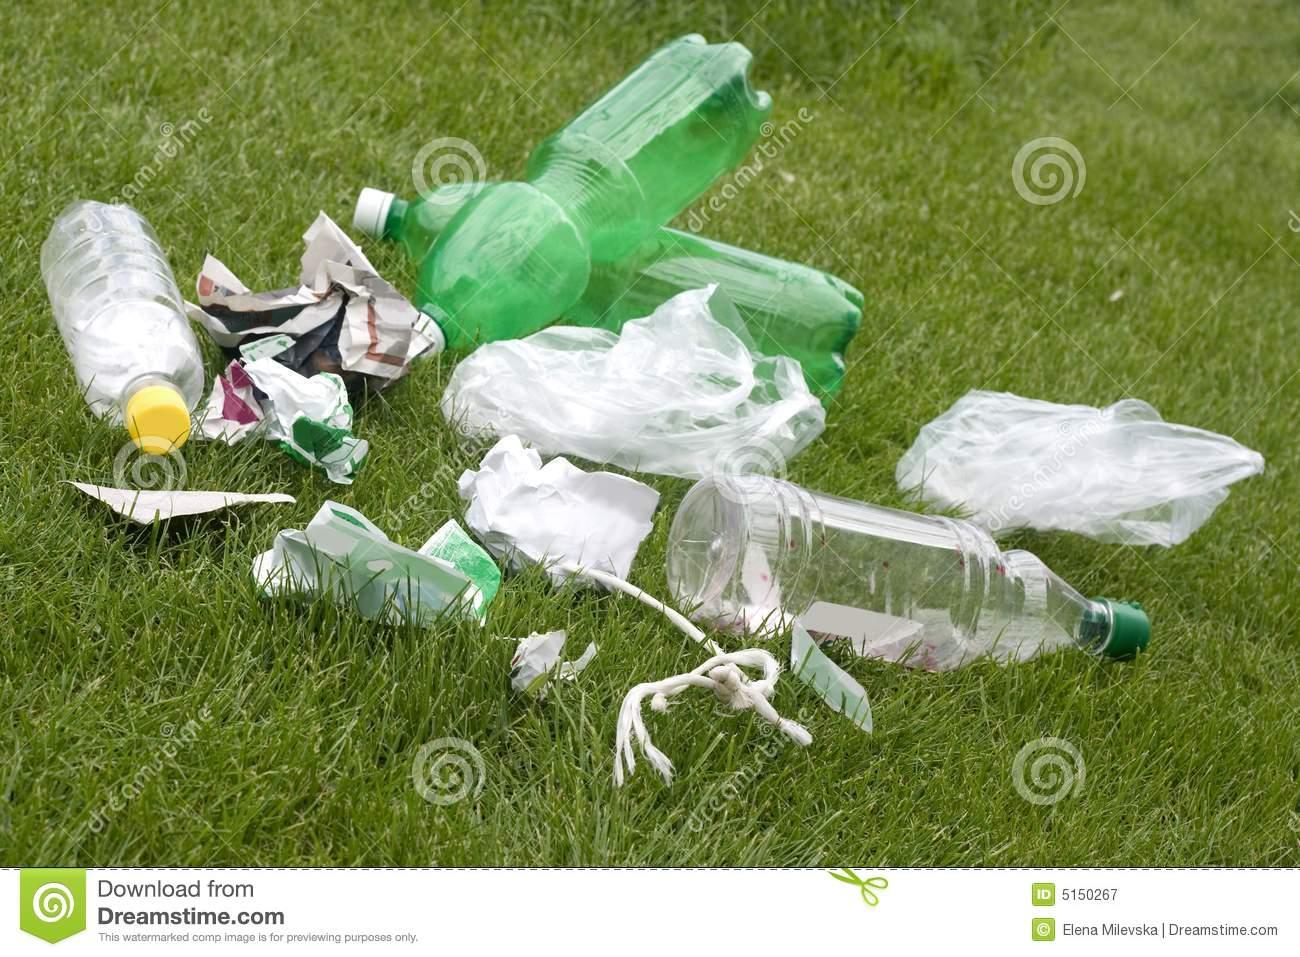bottle: (374, 8, 832, 358), (652, 448, 1184, 736), (335, 58, 907, 131), (24, 288, 208, 364)
